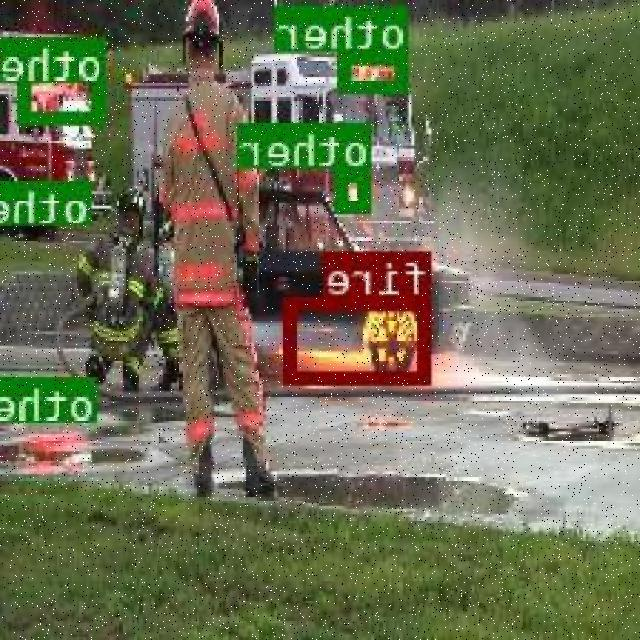other: (22, 36, 107, 121), (340, 49, 409, 91), (32, 374, 98, 416), (337, 167, 372, 210), (48, 180, 94, 212)
